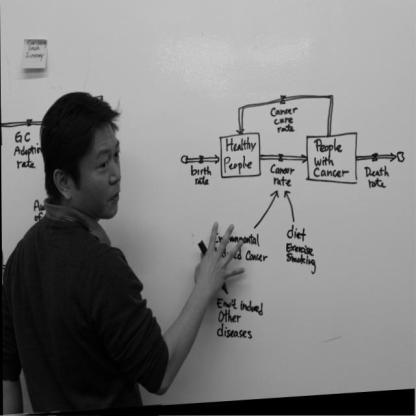Handwritten text: (214, 287, 268, 342), (280, 227, 331, 274), (310, 135, 347, 178), (221, 132, 258, 174), (265, 103, 305, 137), (265, 159, 301, 190), (363, 158, 396, 191), (241, 243, 277, 267), (190, 162, 219, 191), (11, 141, 45, 157), (12, 158, 41, 175), (11, 129, 36, 146)
Lecturer: (4, 88, 206, 410)
